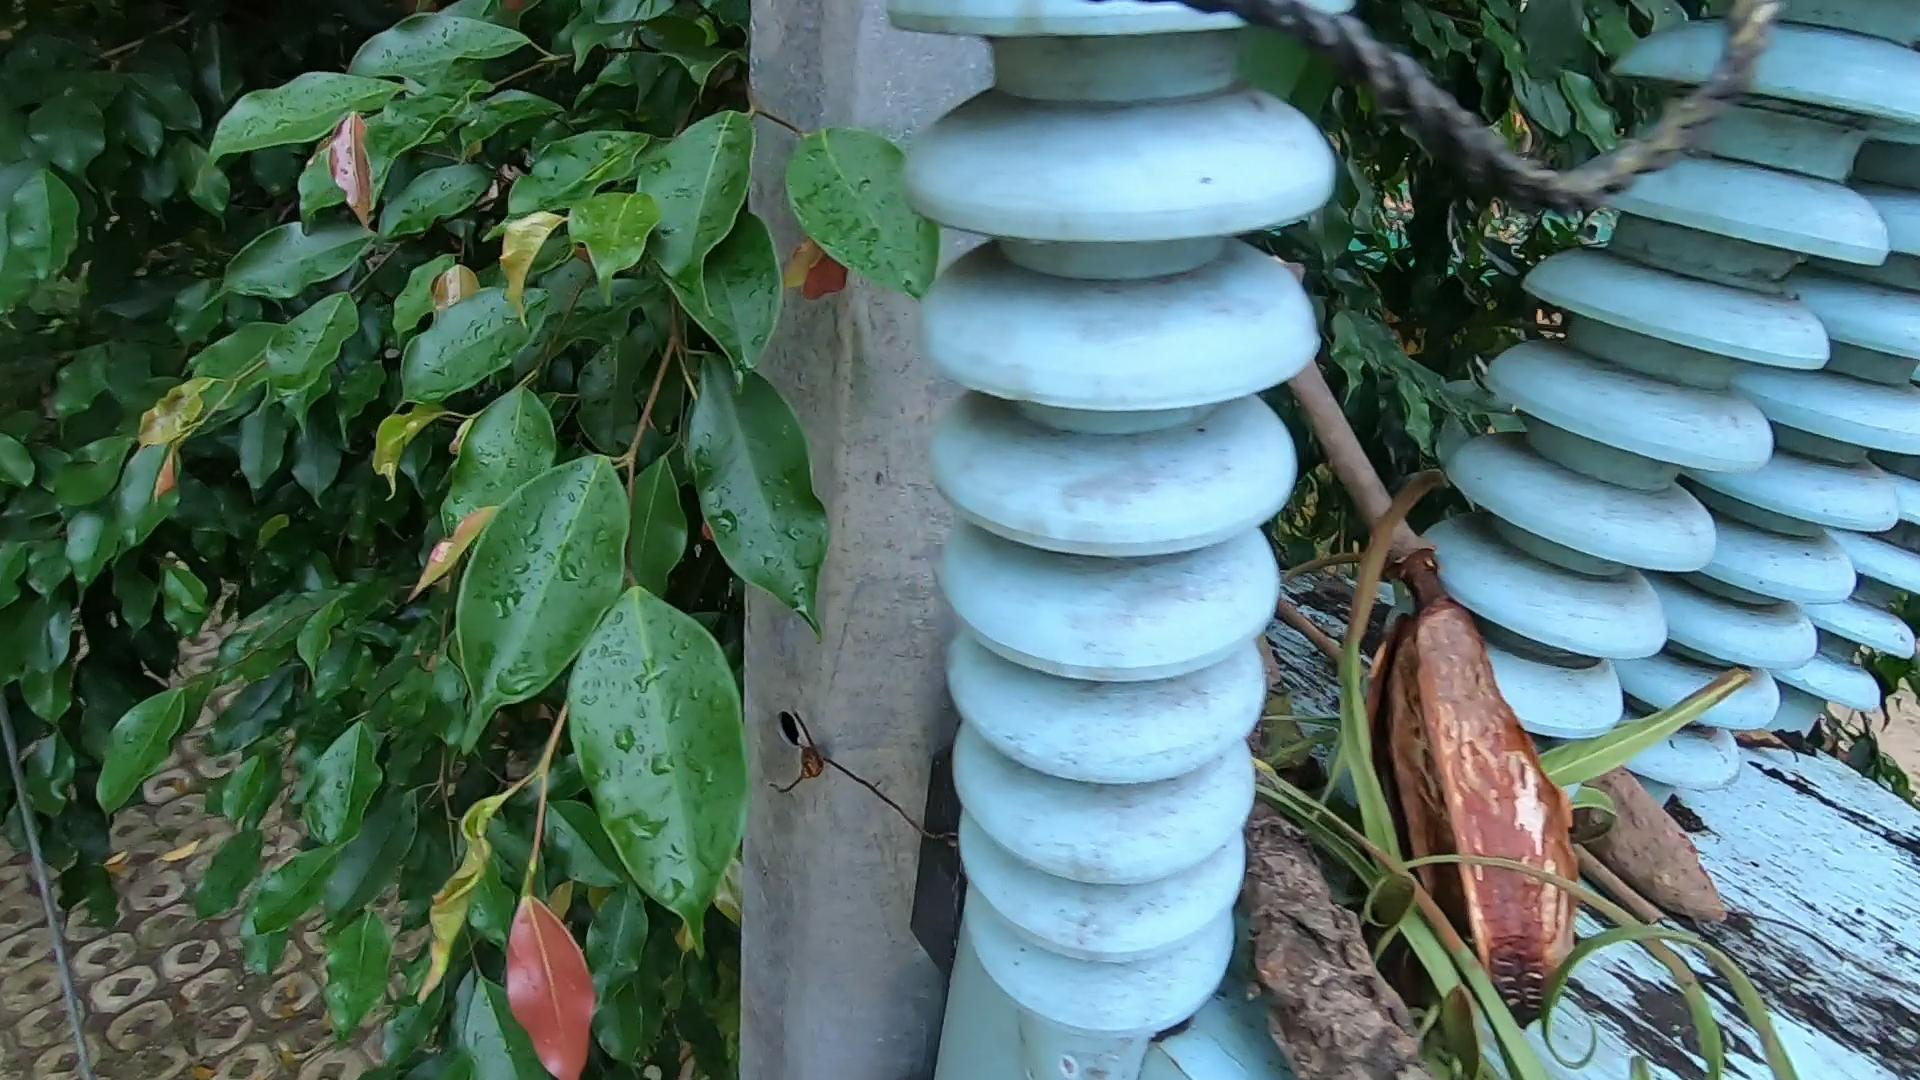branch with leaves: (1224, 601, 1465, 1080)
leaf: (1718, 713, 1822, 786)
mahogany fruit: (1353, 564, 1547, 1051), (1586, 673, 1681, 973)
tree branch: (1262, 330, 1460, 597), (1549, 811, 1741, 975)
